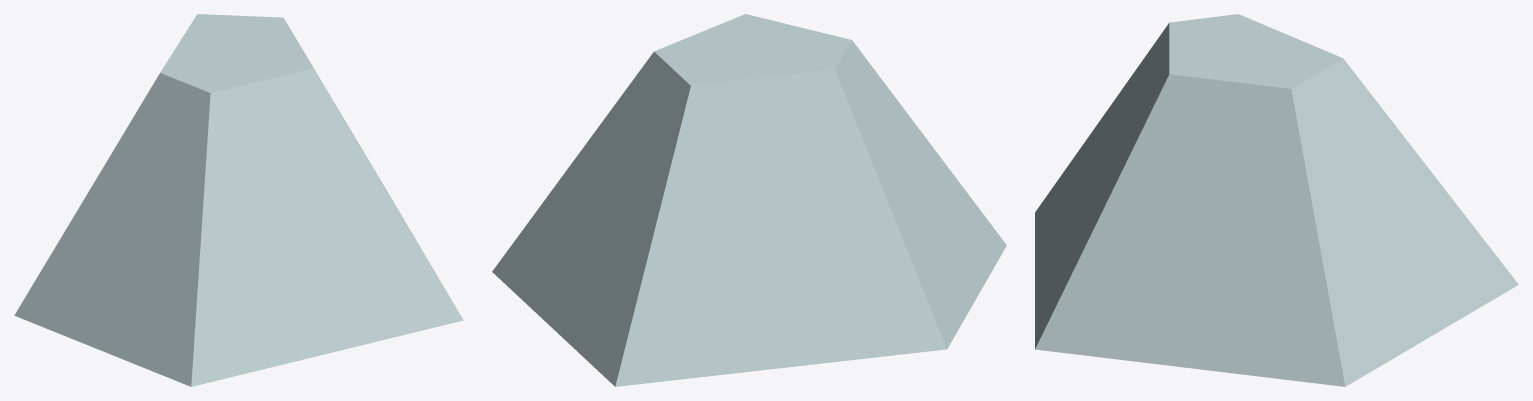
The picture shows the model from 3 angles, left to right: view 1: azimuth 30°, elevation 25°; view 2: azimuth 150°, elevation 25°; view 3: azimuth 270°, elevation 25°; orthographic projection. The views are drawn at different scales.
Parts seen in each view (by area): view 1: stone_smallA; view 2: stone_smallA; view 3: stone_smallA.
Boxes of the visible parts, left/top/right/bottom form: stone_smallA: left=14, top=14, right=463, bottom=386; stone_smallA: left=492, top=14, right=1006, bottom=386; stone_smallA: left=1035, top=14, right=1518, bottom=386.
Size of the model in its own units: 0.3608 by 0.1912 by 0.3608.
